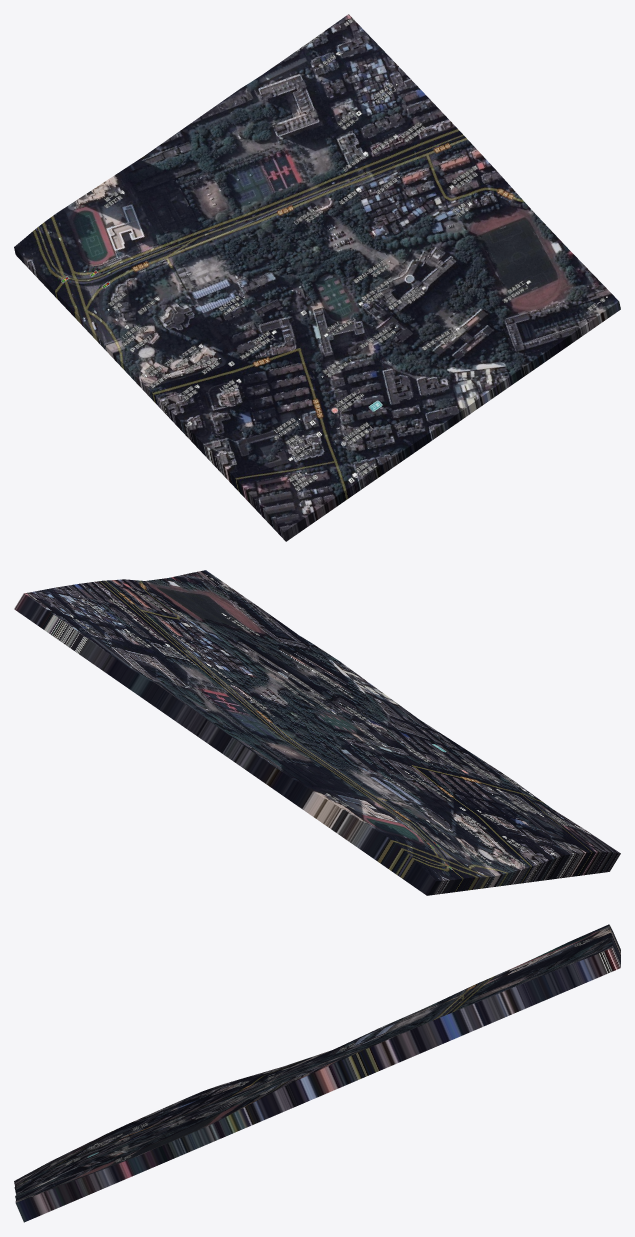
The picture shows the model from 3 angles, top to bottom: view 1: azimuth 30°, elevation 25°; view 2: azimuth 150°, elevation 25°; view 3: azimuth 270°, elevation 25°; orthographic projection. The views are drawn at different scales.
Parts seen in each view (by area): view 1: 0_13_14; view 2: 0_13_14; view 3: 0_13_14.
Boxes of the visible parts, bbox=[...] form: 0_13_14: bbox=[14, 14, 620, 541]; 0_13_14: bbox=[14, 570, 620, 895]; 0_13_14: bbox=[14, 924, 620, 1222].
Size of the model in its own units: 599 by 445 by 551.
1 material, 1 textured.
